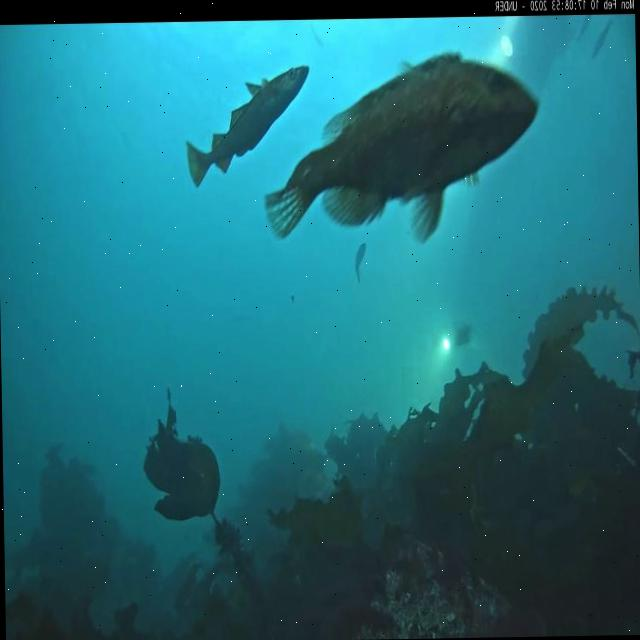fish: (262, 48, 542, 250), (185, 60, 310, 186), (588, 15, 614, 59), (354, 242, 367, 282), (576, 16, 590, 41)
